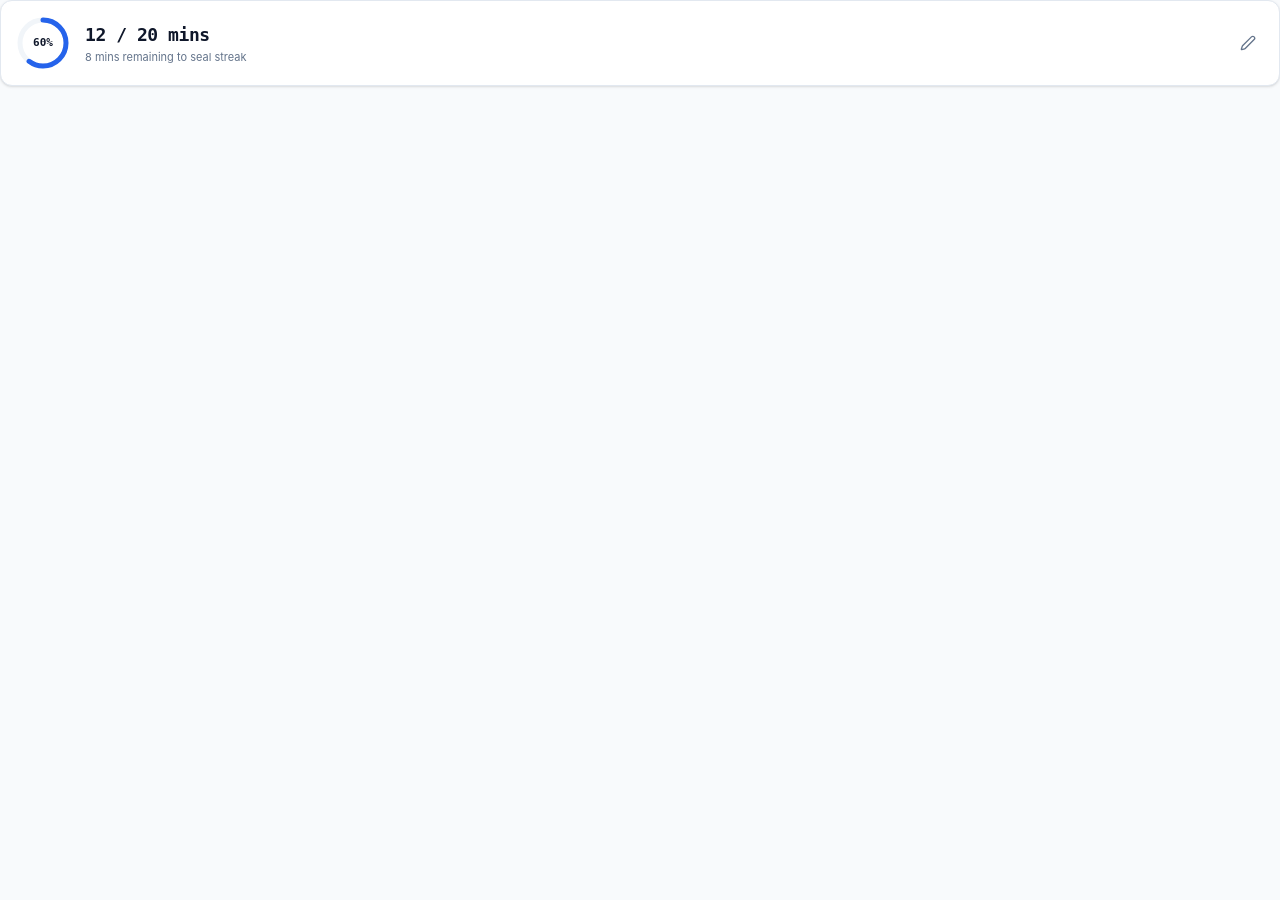
DailyGoalCapsule (W-02) › validates input boundary conditions (1 to 120 mins)
This screenshot has width=1280, height=900.
Click the button named "Edit daily practice goal". click: [1248, 43]
box: [1231, 26, 1265, 60]
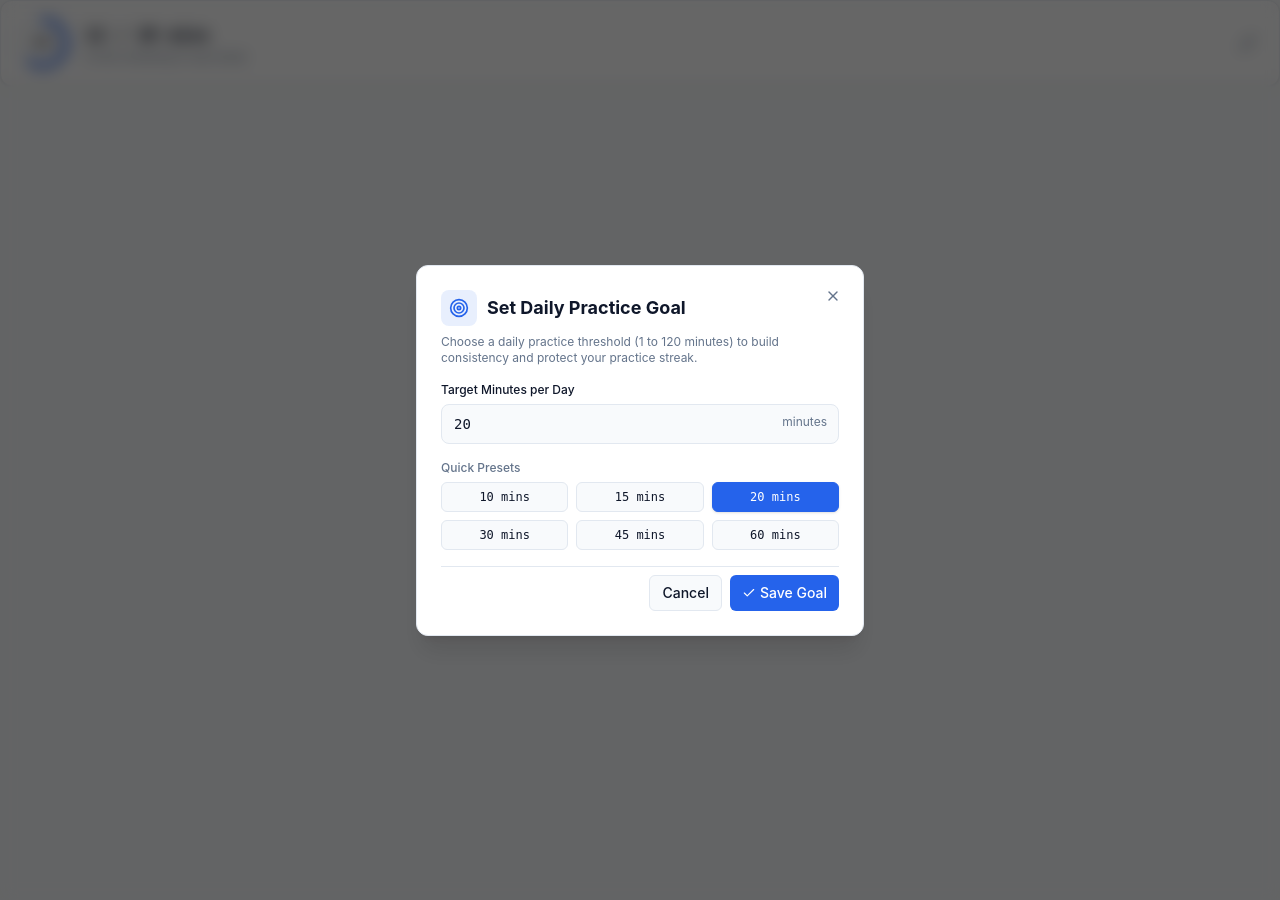
Invalid: 0 mins
Replace the text in the number field labelled "Target Minutes per Day" with "0". click: [640, 424]
box: [441, 404, 839, 444]
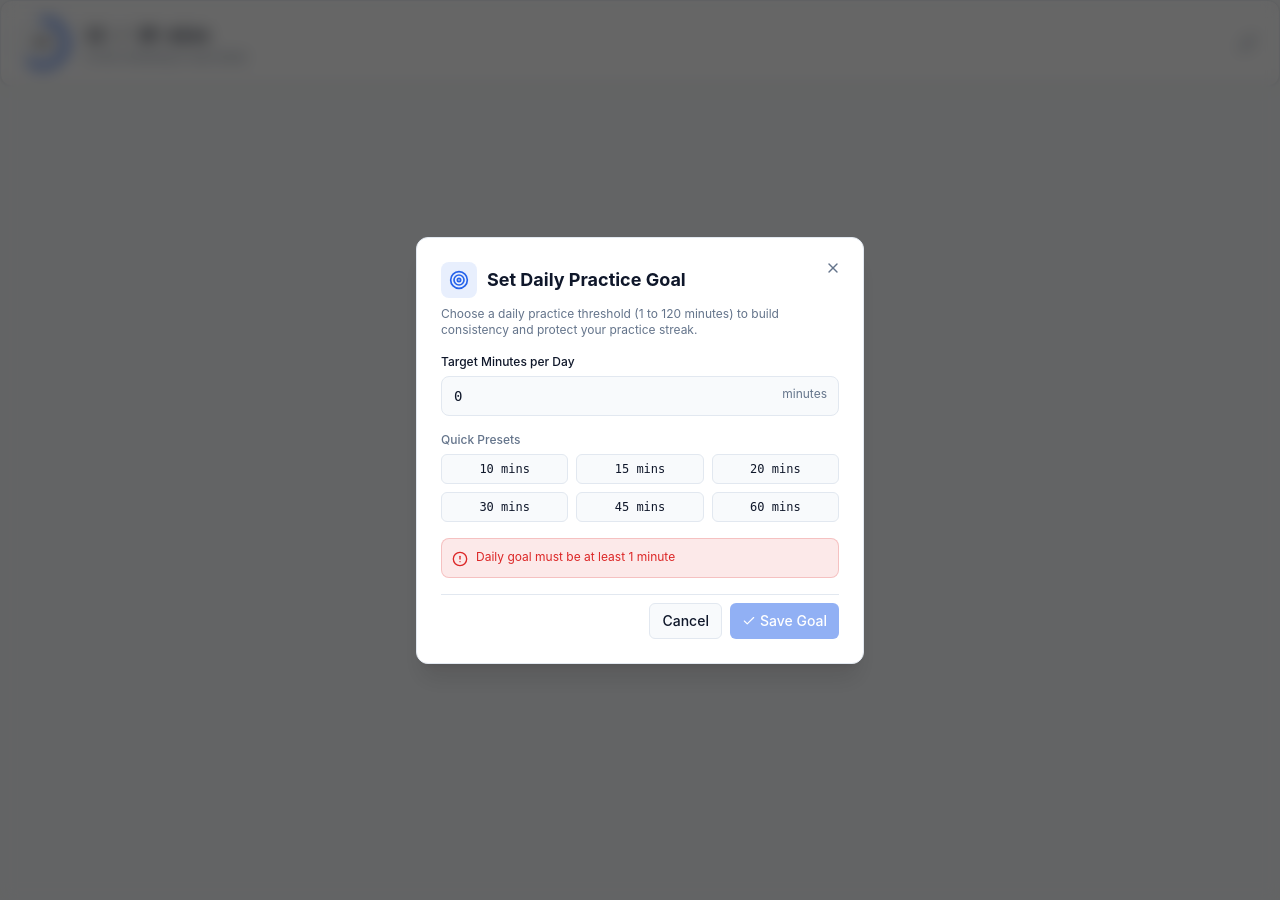
Now the text "Daily goal must be at least 1 minute" is shown, box [476, 548, 675, 564]
Invalid: 150 mins
Replace the text in the number field labelled "Target Minutes per Day" with "150". click: [640, 396]
box: [441, 376, 839, 416]
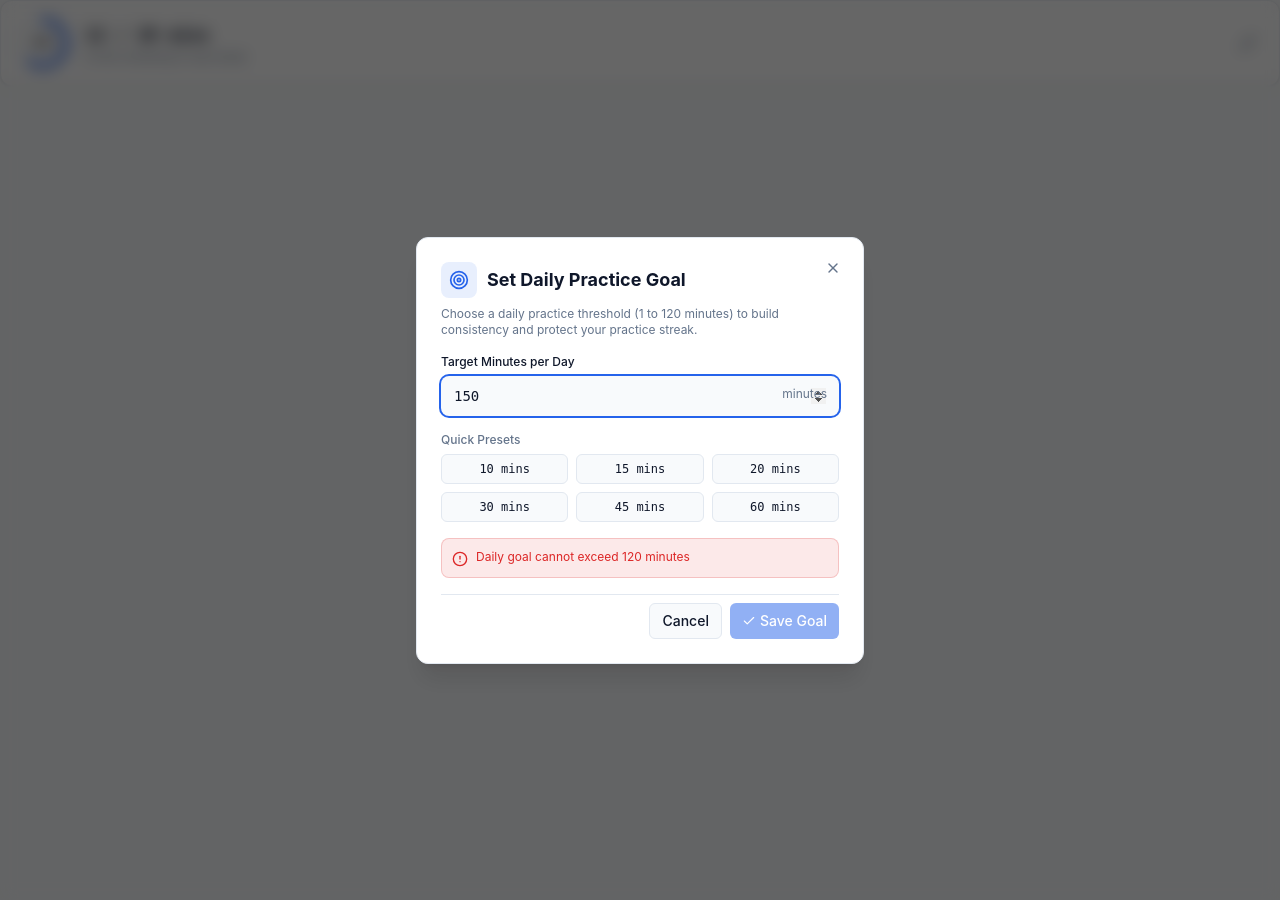
Now the button "Save Goal" is disabled, box [730, 602, 839, 638]
Now the text "Daily goal cannot exceed 120 minutes" is shown, box [476, 548, 690, 564]
